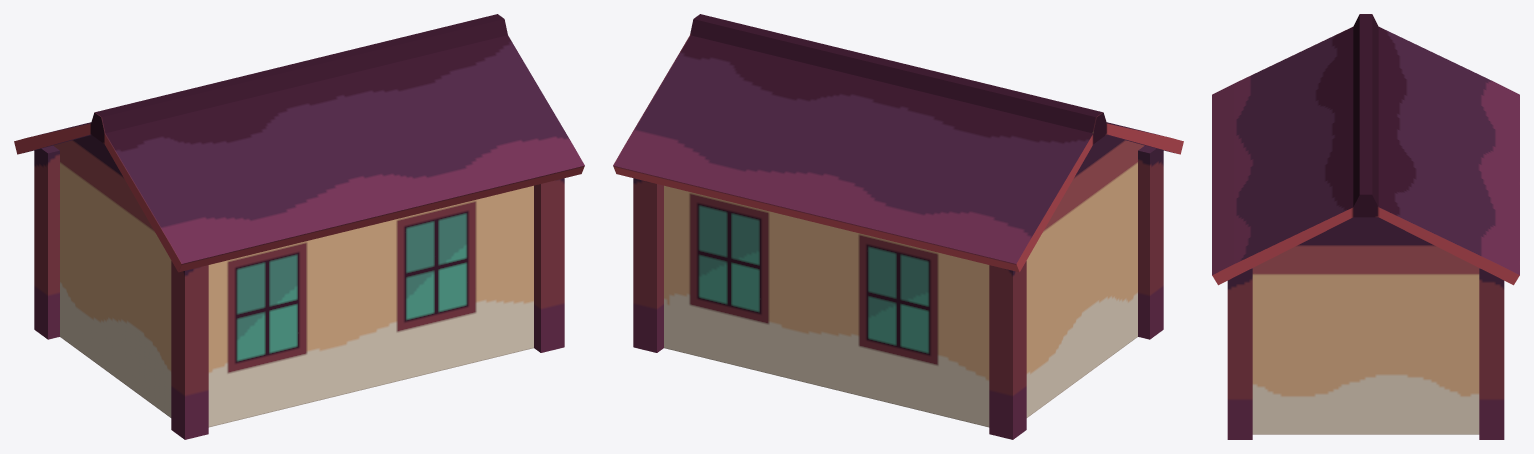
Rendered from House.fbx.
The picture shows the model from 3 angles, left to right: view 1: azimuth 30°, elevation 25°; view 2: azimuth 150°, elevation 25°; view 3: azimuth 270°, elevation 25°; orthographic projection. The views are drawn at different scales.
Visible parts, largest first — view 1: House; view 2: House; view 3: House.
Part boxes in pixels (x1,y1,x2,y2): House: (14,14,584,439); House: (613,14,1183,439); House: (1212,14,1519,439).
Size of the model in its own units: 3.4 by 2.2 by 2.45.
Materials: 1 (1 with a texture image).
